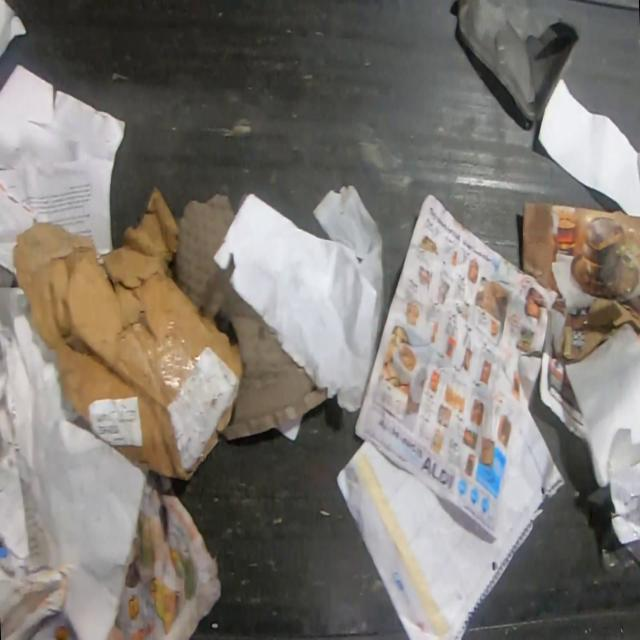cardboard: (11, 184, 244, 484), (521, 199, 640, 364)
rigid_plastic: (456, 0, 581, 123)
